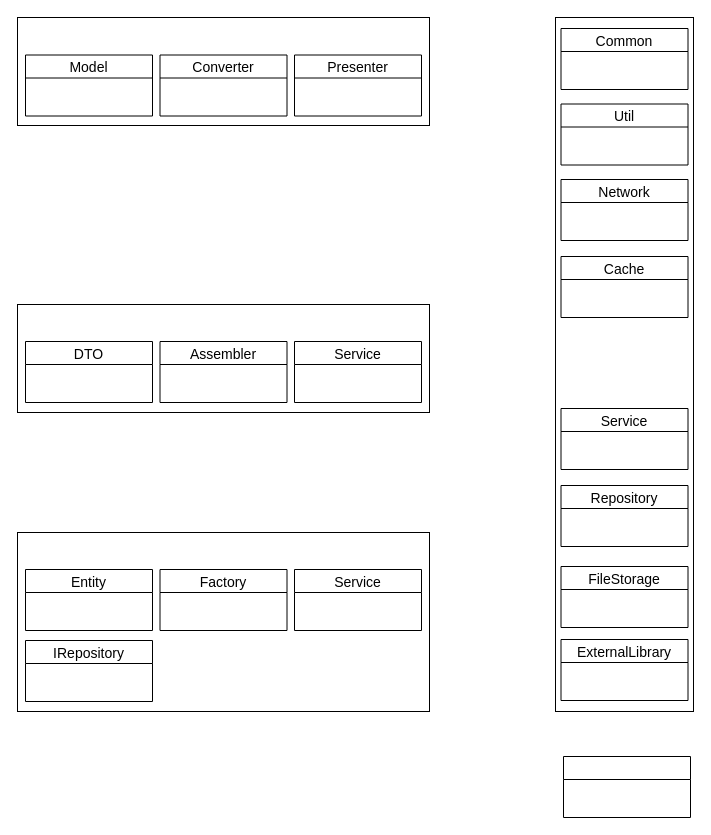
The diagram is 711 pixels wide and 835 high, and some of its shapes have lost their labels. The shapes that lost their labels are listed below. From the top down, each one's box as (x1, y1, x2, y2) in pixels, then its label:
(16, 16, 430, 126): Presentation
(16, 304, 430, 412): Application
(554, 16, 694, 712): Infrastructure
(16, 532, 430, 712): Domain
(562, 756, 690, 818): TypeVal
